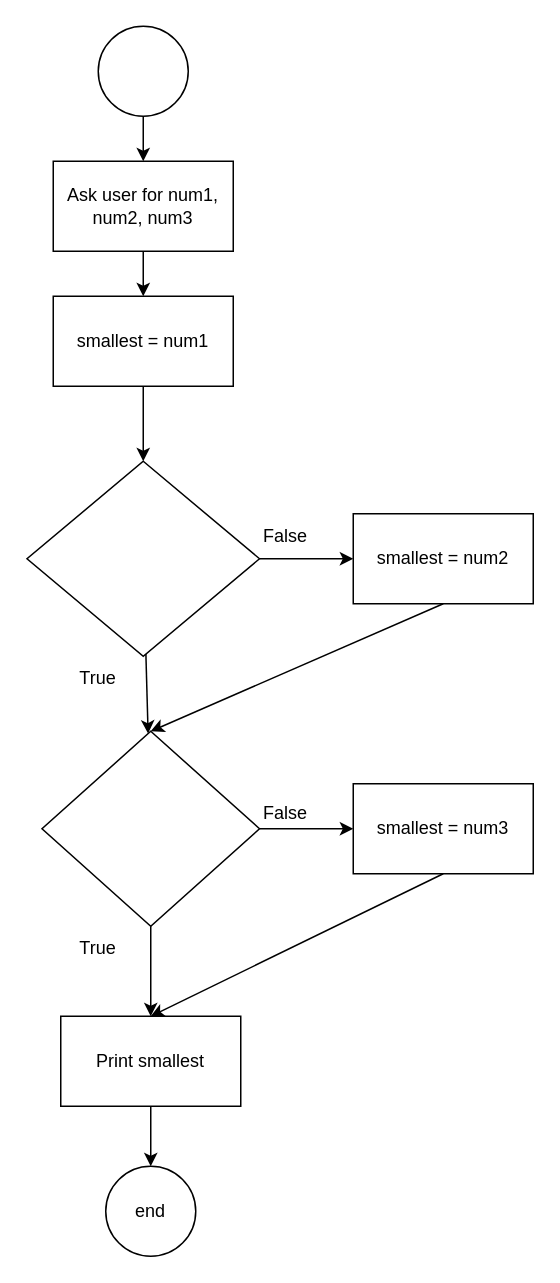
Some shapes in this 560 by 1283 pixel diagram are drawn without their labels. The box of each missing label's shape, as (x1, y1, x2, y2) in pixels:
check smallest < num2: (26, 460, 260, 656)
check smallest < num3: (40, 730, 260, 926)
start: (97, 25, 188, 116)
